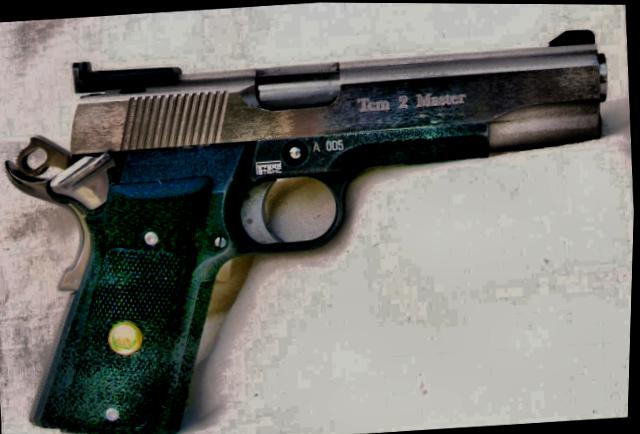pistol: (0, 18, 633, 434)
